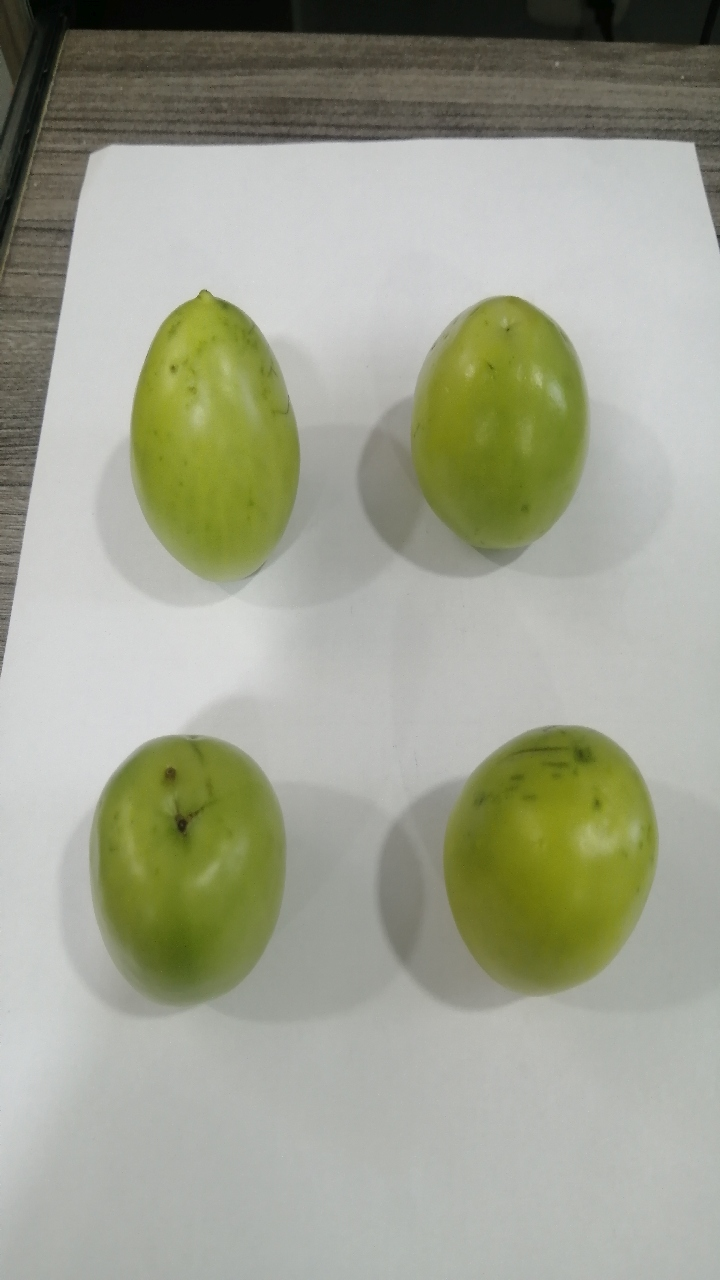tomateVerde: (443, 706, 686, 1019), (77, 706, 284, 1026), (391, 266, 603, 575), (120, 265, 291, 591)
